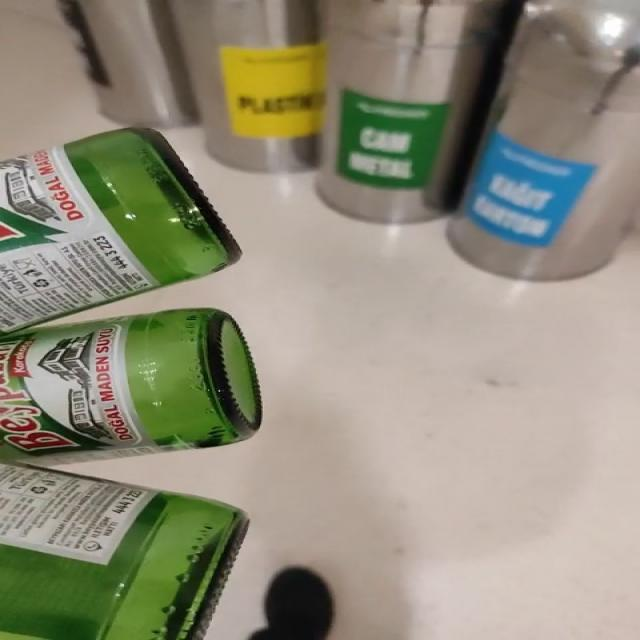Glass: (0, 130, 239, 330), (0, 465, 247, 640), (1, 308, 261, 466)
